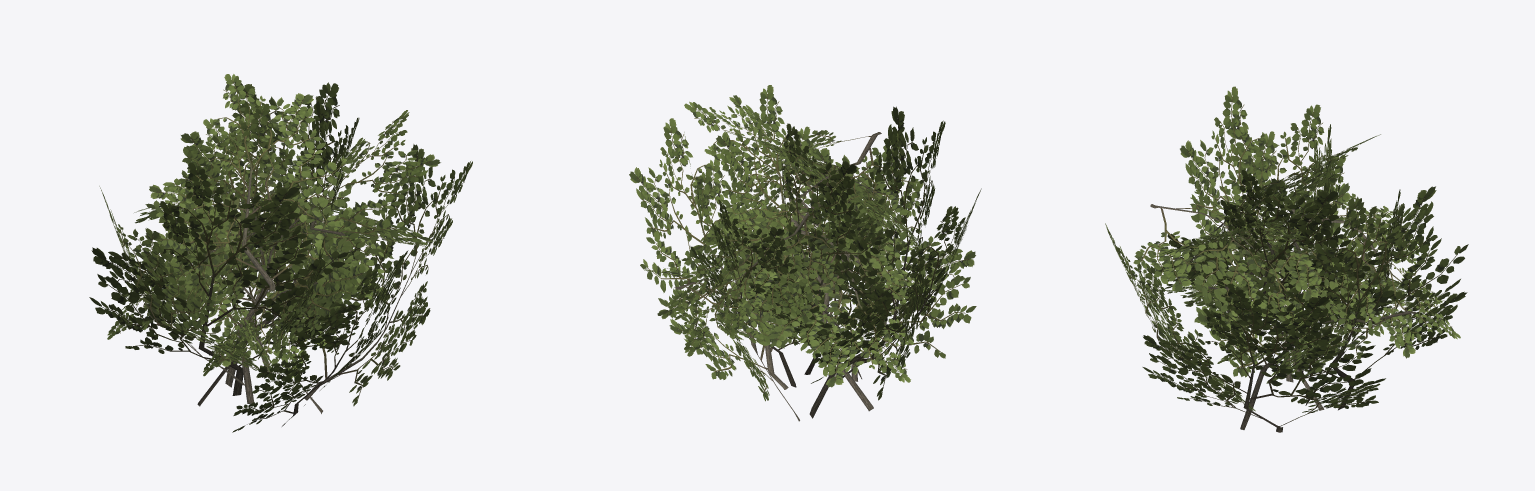
File: Bush-01.gltf
3 renders of one model, left to right at view 1: azimuth 30°, elevation 25°; view 2: azimuth 150°, elevation 25°; view 3: azimuth 270°, elevation 25°, orthographic. The views are drawn at different scales.
Parts seen in each view (by area): view 1: Bush-01; view 2: Bush-01; view 3: Bush-01.
Part boxes in pixels (<box>): Bush-01: <box>89,74,472,432</box>; Bush-01: <box>629,85,981,421</box>; Bush-01: <box>1105,86,1468,432</box>.
Bounding box in the file's own units: 1.25 × 0.8849 × 1.2.
2 materials, 2 textured.
